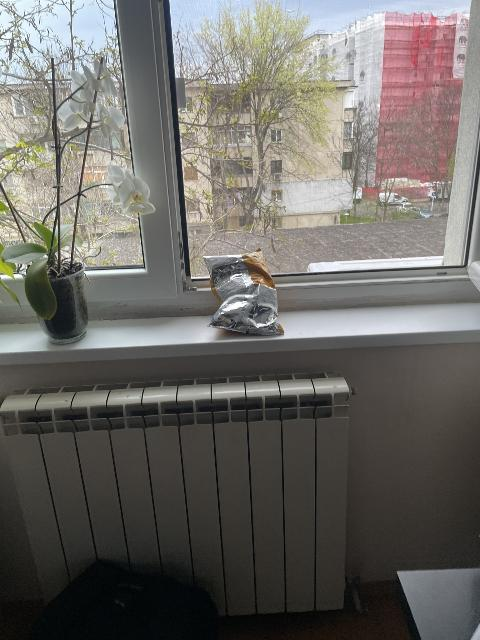Chio Hula Hoops Cheese 70g: (202, 248, 284, 334)
